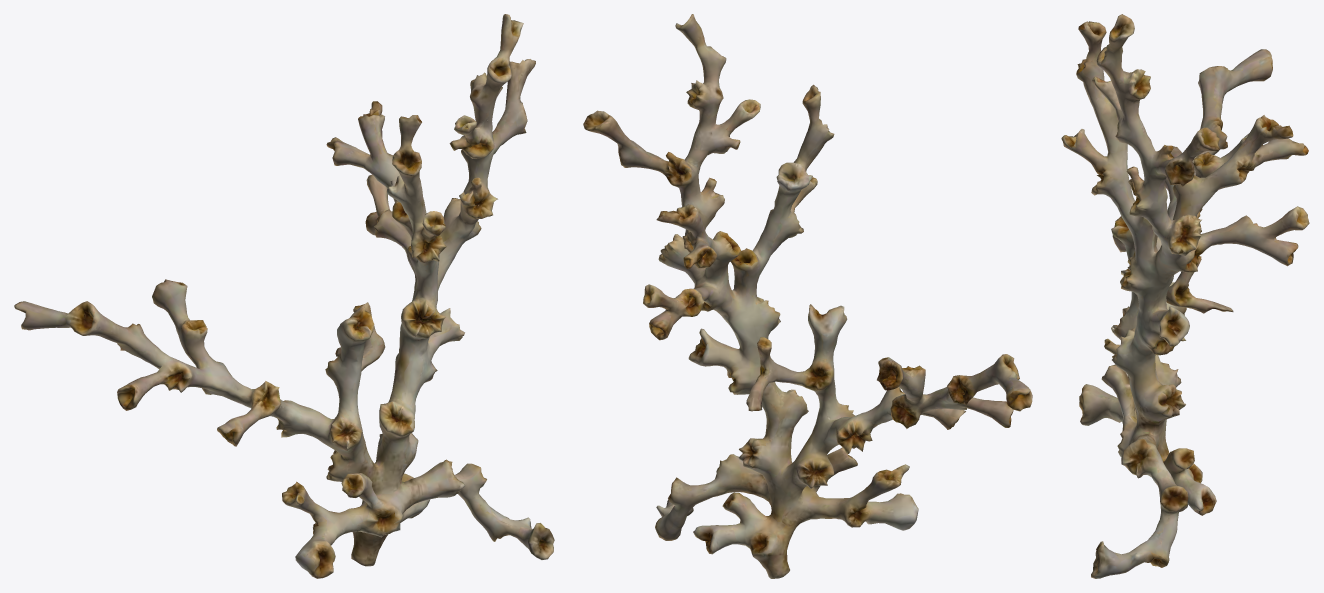
File: lophelia-20k.glb
The picture shows the model from 3 angles, left to right: view 1: azimuth 30°, elevation 25°; view 2: azimuth 150°, elevation 25°; view 3: azimuth 270°, elevation 25°; orthographic projection. The views are drawn at different scales.
Size of the model in its own units: 0.1396 by 0.1471 by 0.0598.
Materials: 1 (1 with a texture image).
